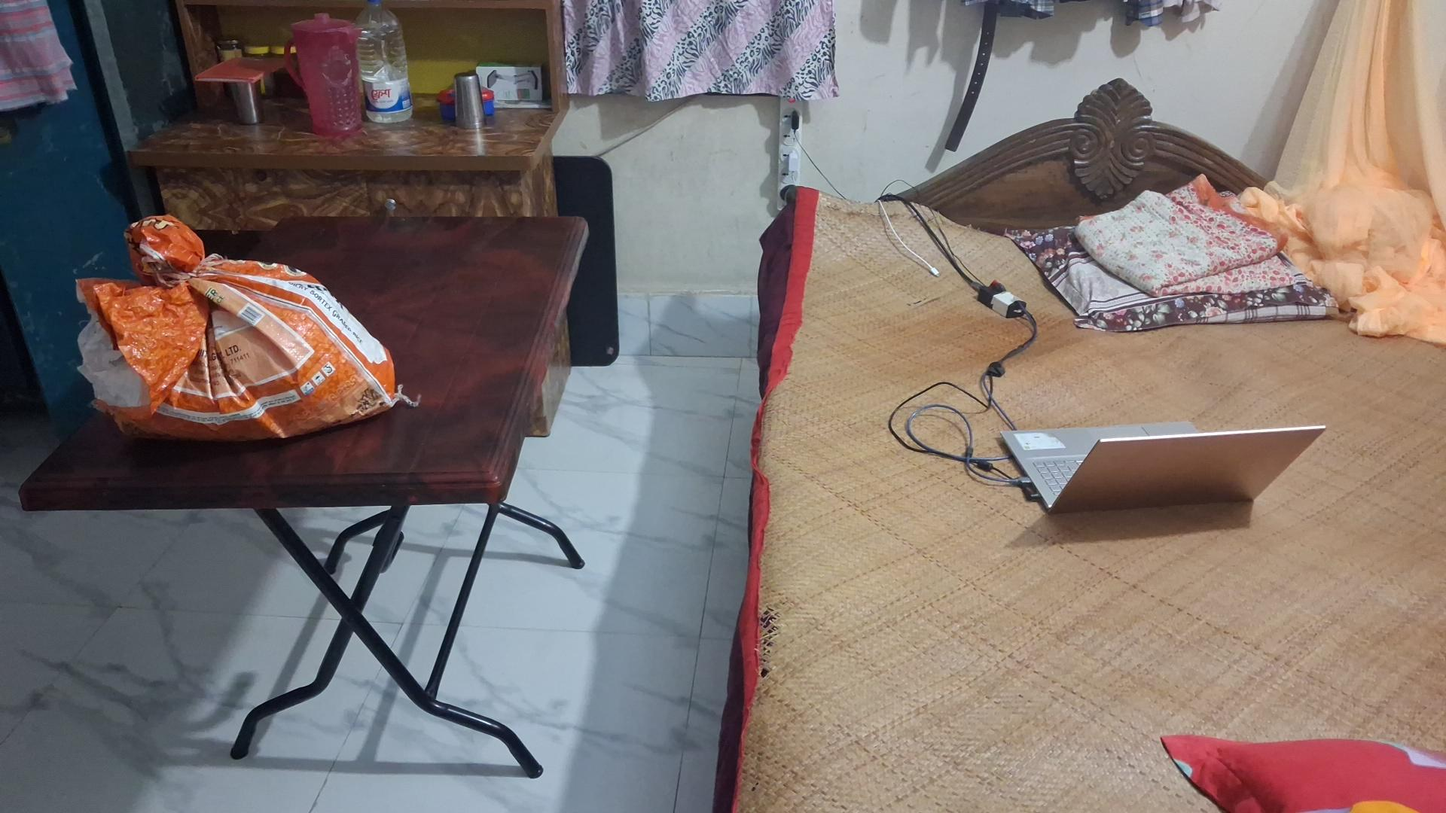Bag: (74, 212, 396, 433)
Blanket: (1077, 174, 1296, 296)
Bottle: (354, 0, 413, 127)
Box: (477, 61, 542, 101)
Glass: (453, 69, 487, 130), (225, 81, 263, 127)
Jug: (284, 16, 361, 133)
Laptop: (996, 421, 1326, 515)
Notebook: (195, 60, 285, 81)
Table: (24, 211, 592, 772)
